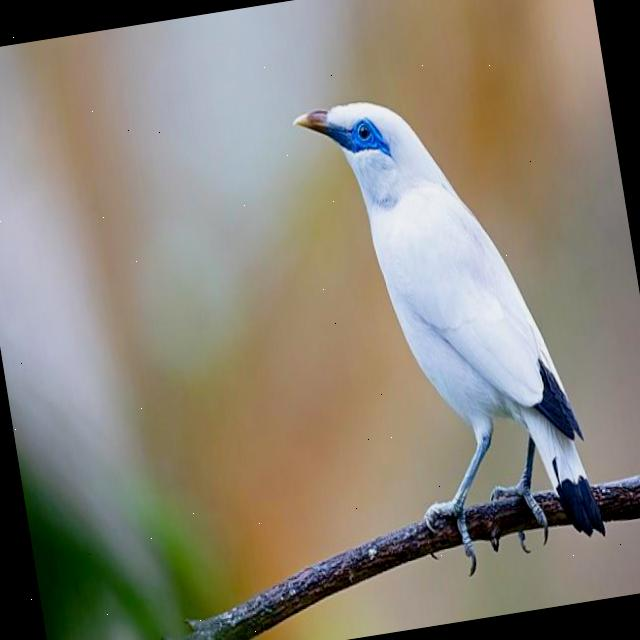Jalak Bali: (275, 28, 640, 612)
